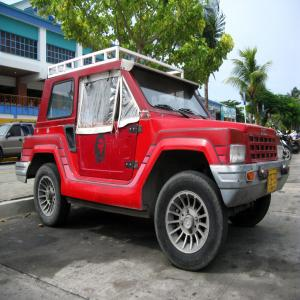Vehicle-registration-plate: (267, 171, 278, 193)
